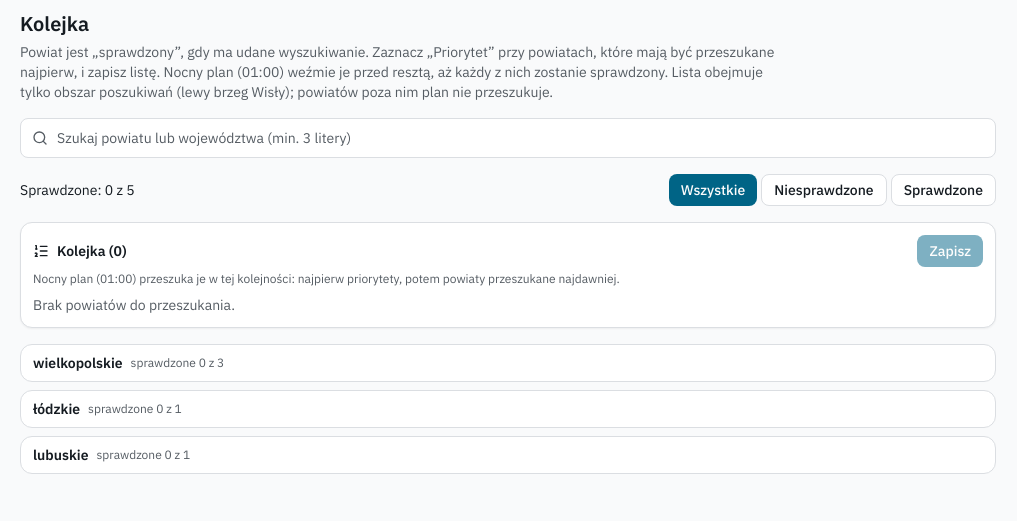
Test: PowiatyPage search › combines with the checked filter and says when nothing matches
Expected: the text "Sprawdzone: 0 z 5" is shown, [20,180,135,200]
In the search field labelled "Szukaj powiatu": {"x": 508, "y": 138} [20,118,996,158], type "kon"
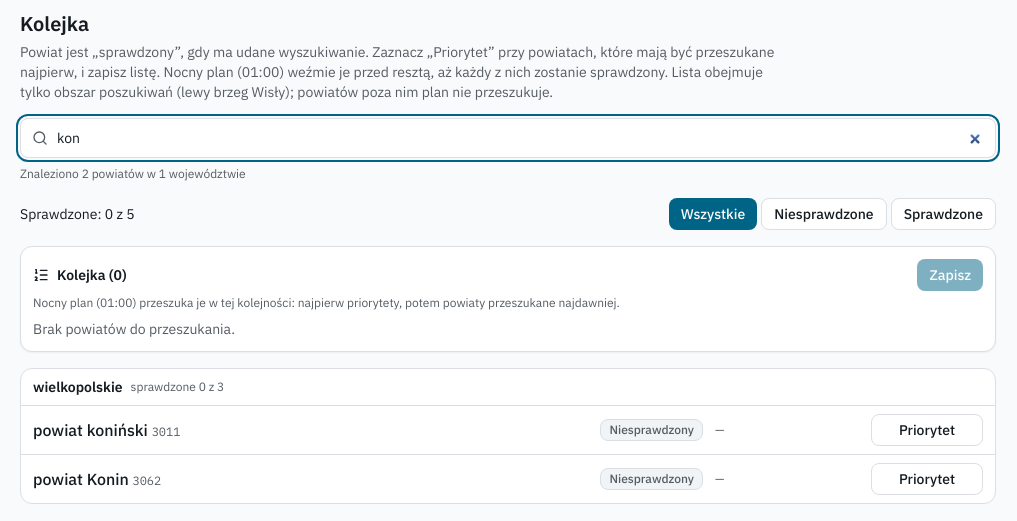
Click the button "Sprawdzone": {"x": 943, "y": 214} [891,198,996,230]
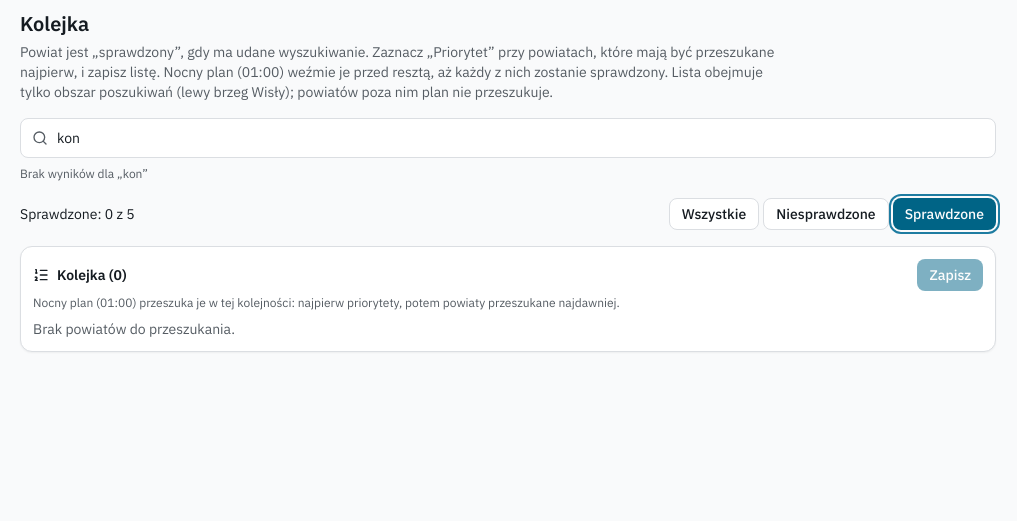
Result: the message with test id "search-summary" reads "Brak wyników dla „kon”" at [20,166,148,181]
Result: the element with test id "voivodeship" is gone
